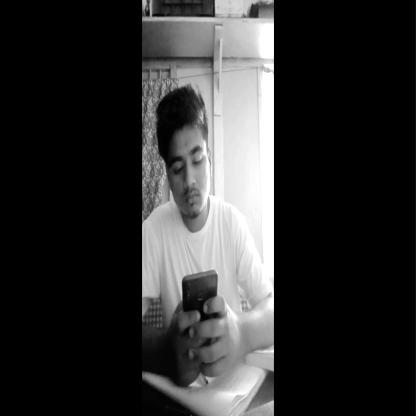Normal: (155, 80, 216, 229)
